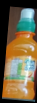orange: (3, 8, 35, 100)
